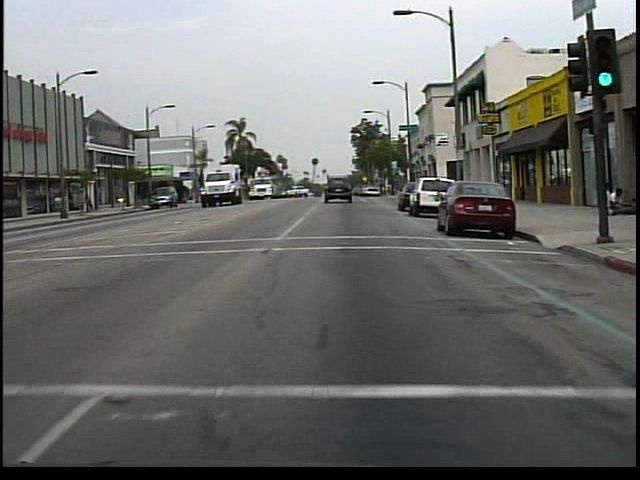person: (592, 180, 612, 217), (82, 190, 96, 216)
